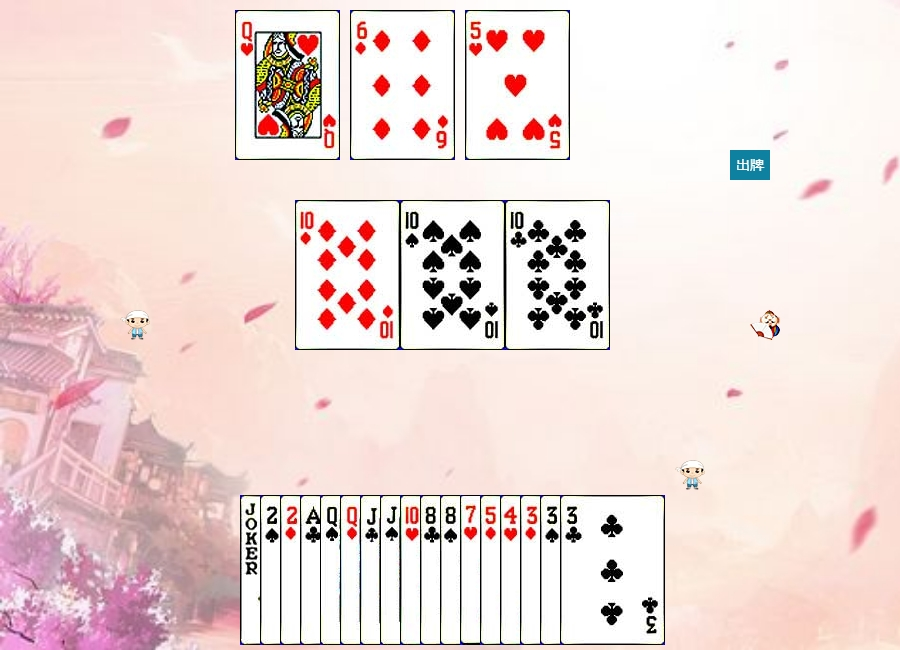10~1: (295, 200, 400, 350)
10~2: (505, 200, 610, 350)
10~3: (400, 495, 505, 645)
10~4: (400, 200, 505, 350)
11~2: (360, 495, 465, 645)
11~4: (380, 495, 485, 645)
12~1: (340, 495, 445, 645)
12~3: (235, 10, 340, 160)
12~4: (320, 495, 425, 645)
14~2: (300, 495, 405, 645)
15~1: (280, 495, 385, 645)
15~4: (260, 495, 365, 645)
17~3: (240, 495, 345, 645)
3~1: (520, 495, 625, 645)
3~2: (560, 495, 665, 645)
3~4: (540, 495, 645, 645)
4~3: (500, 495, 605, 645)
5~1: (480, 495, 585, 645)
5~3: (465, 10, 570, 160)
6~1: (350, 10, 455, 160)
7~3: (460, 495, 565, 645)
8~2: (420, 495, 525, 645)
8~4: (440, 495, 545, 645)
